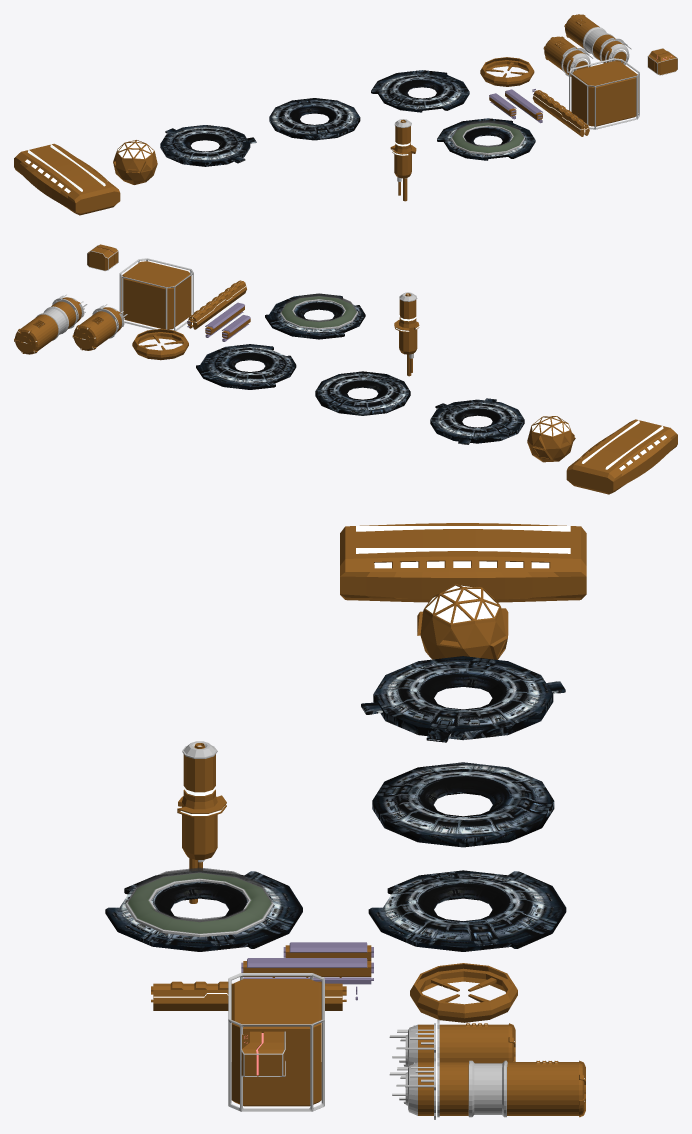
The model's file is StationModules.fbx.
3 views of the same model, one above another, from view 1: azimuth 30°, elevation 25°; view 2: azimuth 150°, elevation 25°; view 3: azimuth 270°, elevation 25° (orthographic). The views are drawn at different scales.
Parts seen in each view (by area): view 1: CivilModule, StorageModule, CircleModule, CircleModule2, CircleModule3, CircleGreenModule, TankLongModule, ObservationModule, VerticalModule, TankModule, Torus, Torus.001 (+5 smaller); view 2: CivilModule, StorageModule, CircleModule, CircleModule2, CircleModule3, TankLongModule, CircleGreenModule, ObservationModule, TankModule, VerticalModule, Torus, Torus.001 (+4 smaller); view 3: CivilModule, CircleModule, CircleModule2, CircleModule3, StorageModule, TankLongModule, CircleGreenModule, ObservationModule, TankModule, Torus, Torus.001, VerticalModule (+5 smaller).
Boxes of the visible parts, x1=… form: CivilModule: x1=14, y1=143, x2=120, y2=215; StorageModule: x1=569, y1=58, x2=639, y2=129; CircleModule: x1=371, y1=70, x2=469, y2=112; CircleModule2: x1=160, y1=125, x2=256, y2=166; CircleModule3: x1=269, y1=98, x2=360, y2=140; CircleGreenModule: x1=437, y1=118, x2=535, y2=160; TankLongModule: x1=564, y1=14, x2=631, y2=64; ObservationModule: x1=113, y1=140, x2=157, y2=184; VerticalModule: x1=390, y1=119, x2=416, y2=201; TankModule: x1=543, y1=36, x2=593, y2=76; Torus: x1=451, y1=122, x2=524, y2=155; Torus.001: x1=452, y1=120, x2=524, y2=152; CivilModule: x1=566, y1=419, x2=677, y2=494; StorageModule: x1=119, y1=258, x2=193, y2=330; CircleModule: x1=196, y1=344, x2=296, y2=389; CircleModule2: x1=430, y1=398, x2=524, y2=444; CircleModule3: x1=315, y1=371, x2=410, y2=415; TankLongModule: x1=14, y1=294, x2=87, y2=354; CircleGreenModule: x1=265, y1=294, x2=365, y2=339; ObservationModule: x1=527, y1=416, x2=575, y2=462; TankModule: x1=72, y1=304, x2=127, y2=350; VerticalModule: x1=394, y1=292, x2=419, y2=376; Torus: x1=280, y1=296, x2=357, y2=329; Torus.001: x1=281, y1=293, x2=356, y2=327; CivilModule: x1=340, y1=523, x2=586, y2=602; CircleModule: x1=368, y1=870, x2=566, y2=951; CircleModule2: x1=361, y1=656, x2=565, y2=742; CircleModule3: x1=372, y1=762, x2=554, y2=847; StorageModule: x1=228, y1=973, x2=324, y2=1111; TankLongModule: x1=389, y1=1057, x2=585, y2=1119; CircleGreenModule: x1=105, y1=871, x2=302, y2=951; ObservationModule: x1=417, y1=584, x2=508, y2=659; TankModule: x1=389, y1=1019, x2=515, y2=1066; Torus: x1=125, y1=873, x2=273, y2=937; Torus.001: x1=127, y1=867, x2=272, y2=933; VerticalModule: x1=177, y1=741, x2=226, y2=903.
Bounding box in the file's own units: 29897 × 3856 × 10704.
